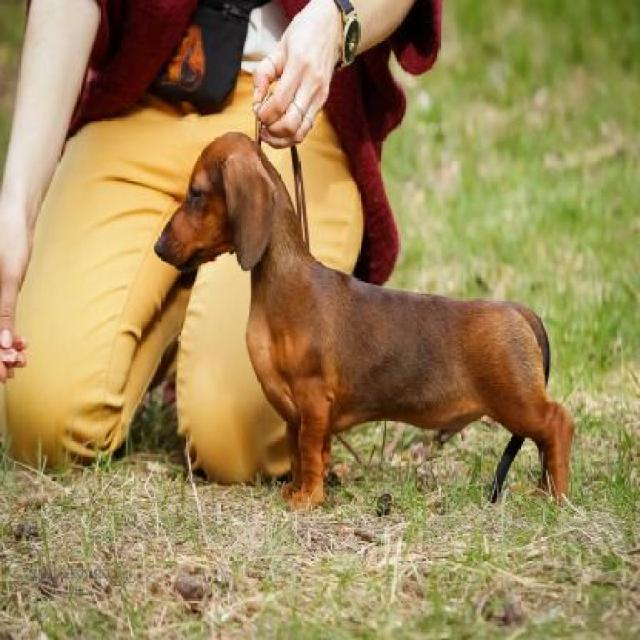Dog: (150, 131, 578, 498)
